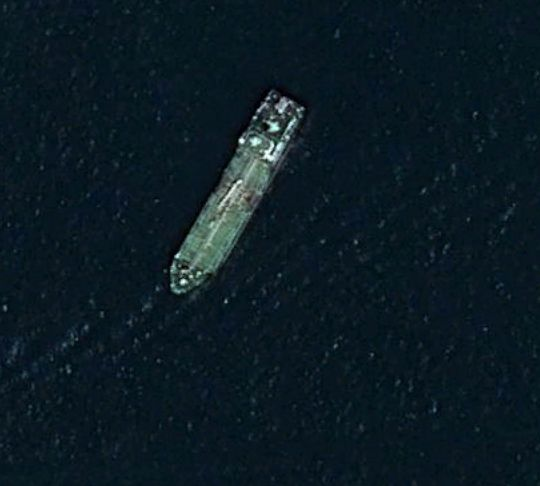boat: (168, 87, 307, 297)
